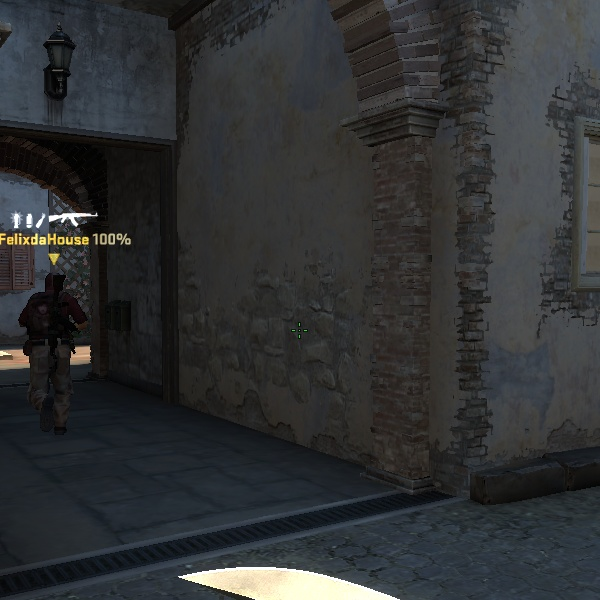t_body: (2, 268, 99, 439)
t_head: (33, 267, 73, 306)
